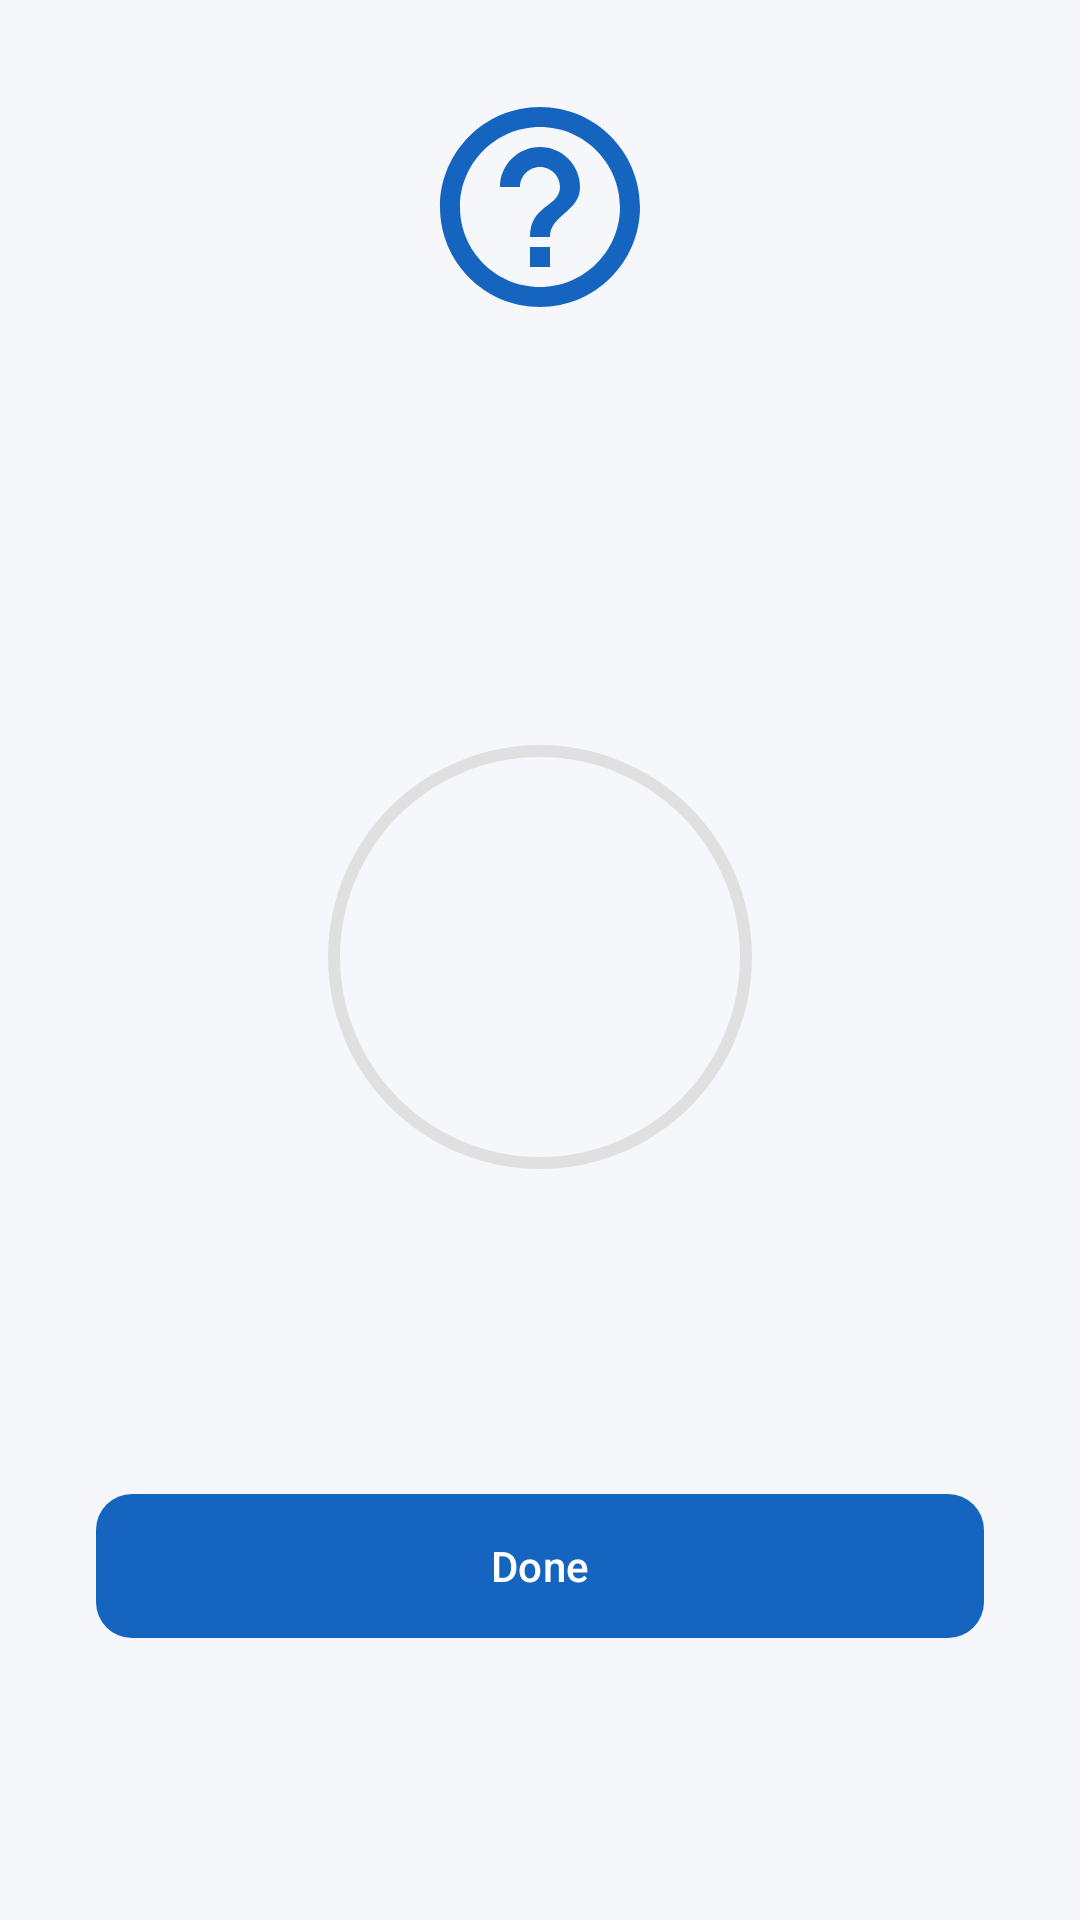

Icons on this 1080x1920 Android screen, each with the point to tap as (x,y):
quiz: (540,207)
